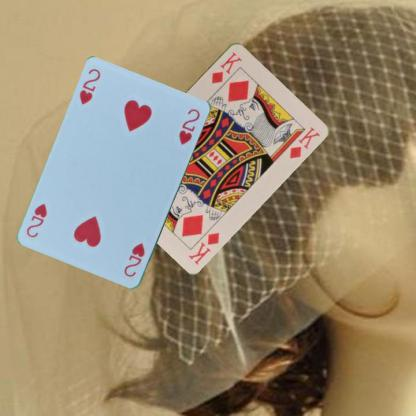2h: (77, 66, 102, 106), (122, 240, 146, 279)
Kd: (208, 49, 243, 85), (186, 229, 220, 266)
